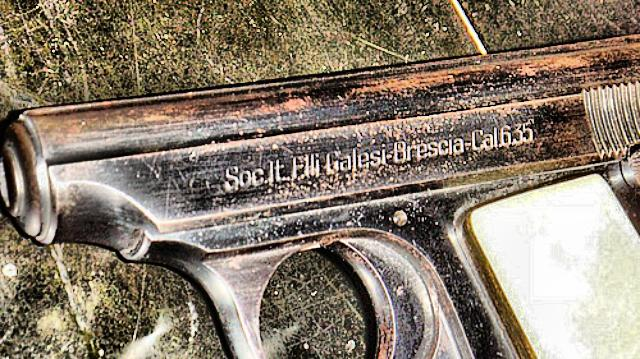pistol: (1, 34, 638, 358)
